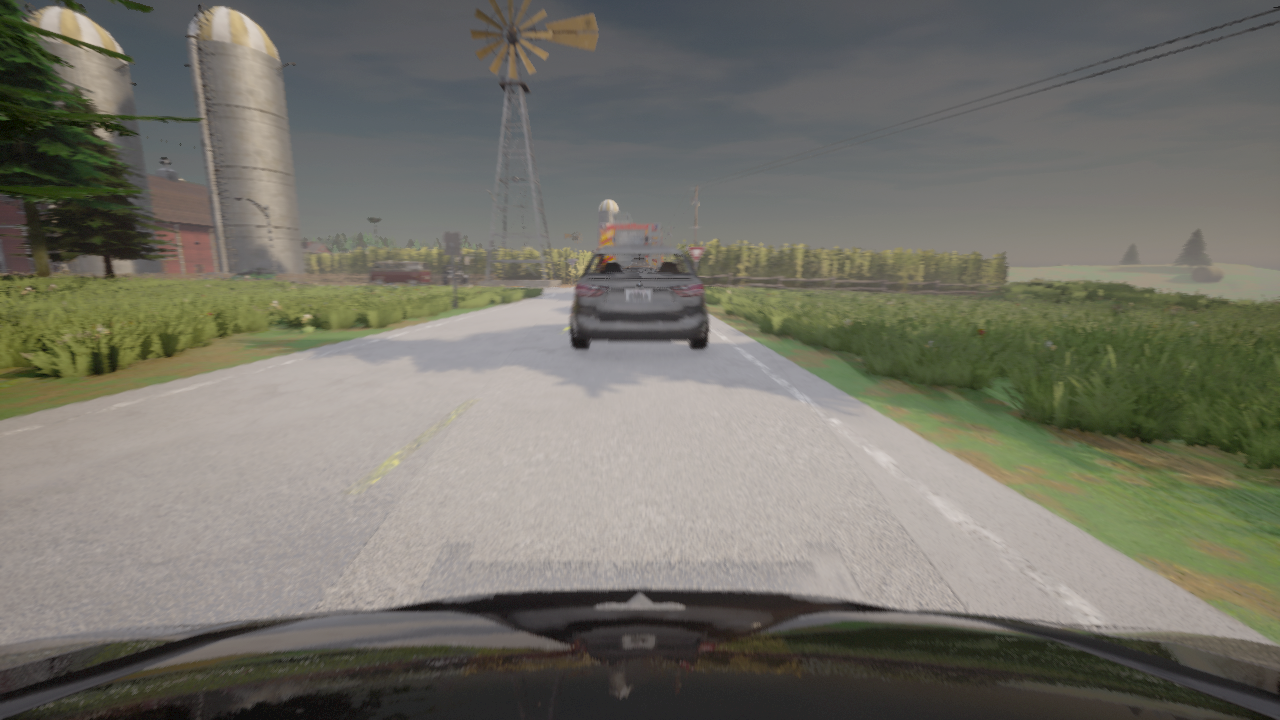cyclist: (0, 588, 1279, 719), (571, 245, 708, 348), (599, 213, 663, 248), (368, 261, 431, 285), (231, 268, 279, 281), (442, 265, 468, 284)
